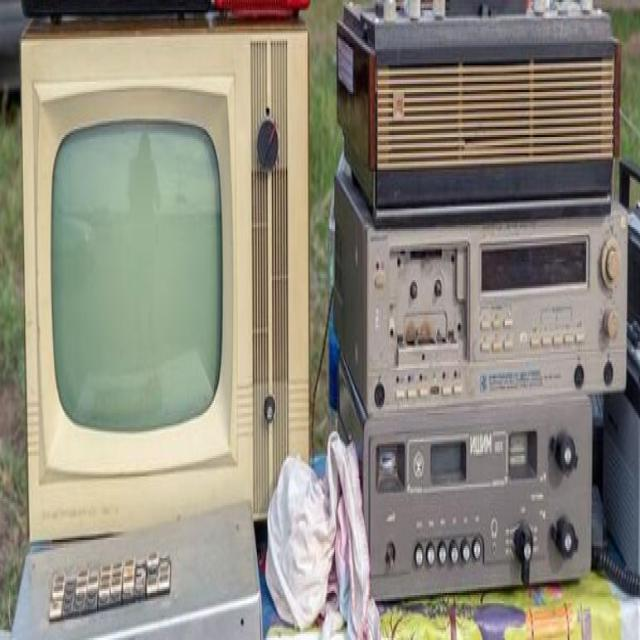electronic: (19, 12, 310, 544)
